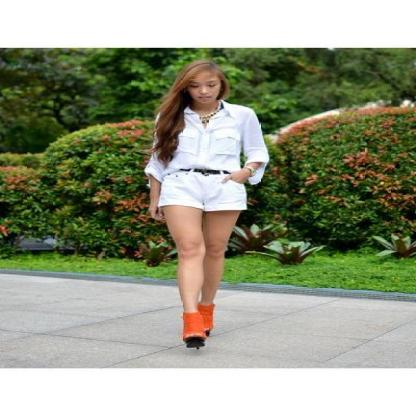dress: (145, 100, 268, 210)
shoe: (182, 302, 214, 338)
